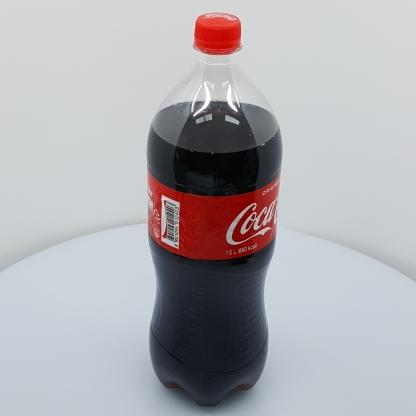----1-5L: (146, 13, 283, 406)
